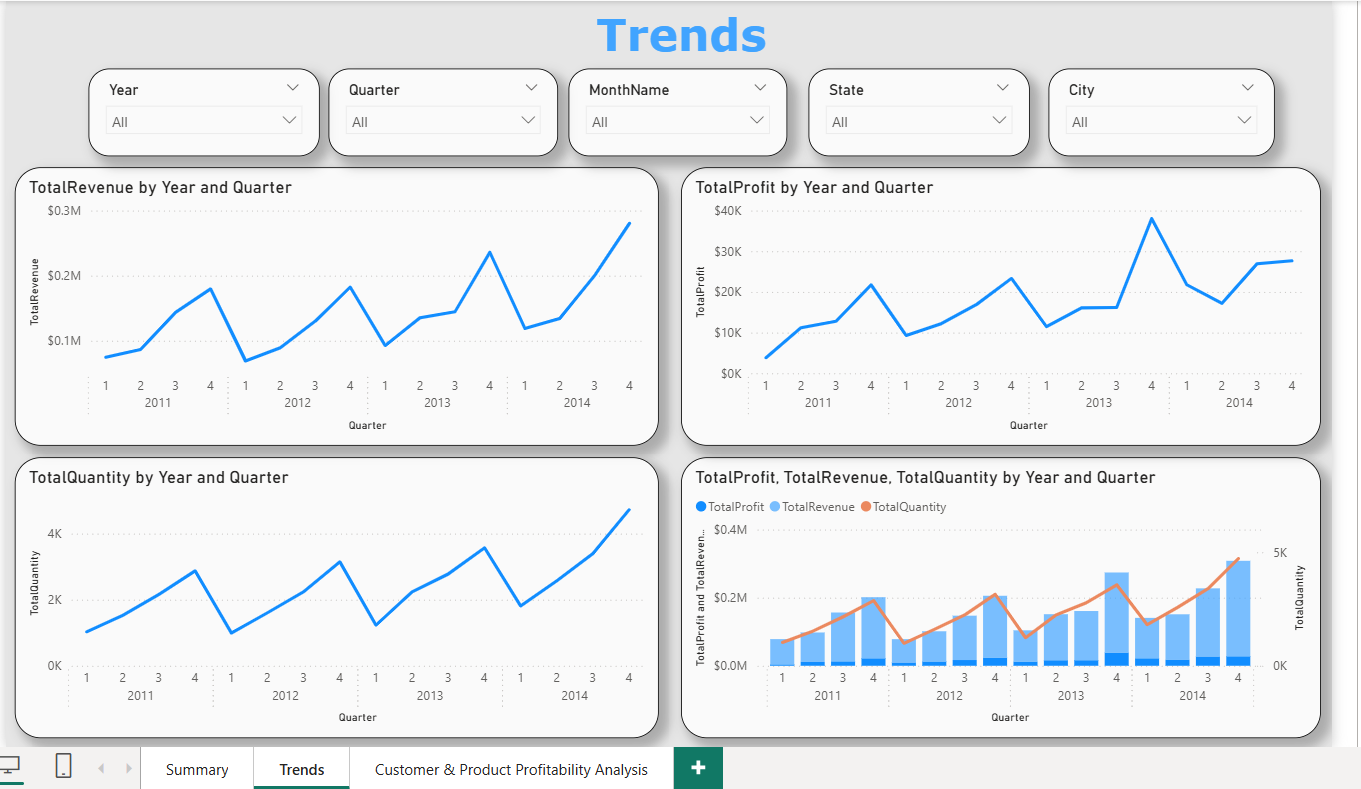

The dashboard page shown, as its layout file describes it:
{"tool":"powerbi","page":{"name":"Trends","canvas":[1280,720],"ordinal":1},"visuals":[{"type":"slicer","fields":{"Values":["DateTable.Year"]},"box":[79.6,65.1,223.2,84.5],"z":0,"group":"g1"},{"type":"lineChart","fields":{"Y":["All Measures.TotalRevenue"],"Category":["DateTable.Year","DateTable.Quarter"]},"box":[8.4,160.5,621.3,269],"z":0},{"type":"slicer","fields":{"Values":["DateTable.Quarter"]},"box":[311.2,65.1,222,84.5],"z":1000,"group":"g1"},{"type":"lineChart","fields":{"Y":["All Measures.TotalQuantity"],"Category":["DateTable.Year","DateTable.Quarter"]},"box":[8.4,440.4,621.3,271.4],"z":1000},{"type":"slicer","fields":{"Values":["DateTable.MonthName"]},"box":[542.9,65.1,211.1,84.5],"z":2000,"group":"g1"},{"type":"lineStackedColumnComboChart","title":"TotalProfit, TotalRevenue, TotalQuantity by Year and Quarter","fields":{"Y":["All Measures.TotalProfit","All Measures.TotalRevenue"],"Y2":["All Measures.TotalQuantity"],"Category":["DateTable.Year","DateTable.Quarter"]},"box":[651.5,440.4,617.7,271.4],"z":2000},{"type":"slicer","fields":{"Values":["Orders.State"]},"box":[774.5,65.1,213.5,84.5],"z":3000,"group":"g1"},{"type":"lineChart","fields":{"Y":["All Measures.TotalProfit"],"Category":["DateTable.Year","DateTable.Quarter"]},"box":[651.5,160.5,617.7,269],"z":3000},{"type":"slicer","fields":{"Values":["Orders.City"]},"box":[1006.1,65.1,218.4,84.5],"z":4000,"group":"g1"},{"type":"group","id":"g1","title":"Slicers","box":[79.6,65.1,1144.9,84.5],"z":4000},{"type":"textbox","box":[79.6,0,1144.9,65.1],"z":5000}]}

Visuals, with their boxes in screenshot pixels (x1, y1, x2, y2):
slicer - DateTable.Year: Rect(80, 65, 314, 153)
lineChart - All Measures.TotalRevenue x DateTable.Year: Rect(5, 165, 657, 447)
slicer - DateTable.Quarter: Rect(323, 65, 556, 153)
lineChart - All Measures.TotalQuantity x DateTable.Year: Rect(5, 458, 657, 743)
slicer - DateTable.MonthName: Rect(566, 65, 787, 153)
"TotalProfit, TotalRevenue, TotalQuantity by Year and Quarter" lineStackedColumnComboChart: Rect(680, 458, 1327, 743)
slicer - Orders.State: Rect(809, 65, 1032, 153)
lineChart - All Measures.TotalProfit x DateTable.Year: Rect(680, 165, 1327, 447)
slicer - Orders.City: Rect(1051, 65, 1280, 153)
"Slicers" group: Rect(80, 65, 1280, 153)
textbox: Rect(80, 0, 1280, 65)
